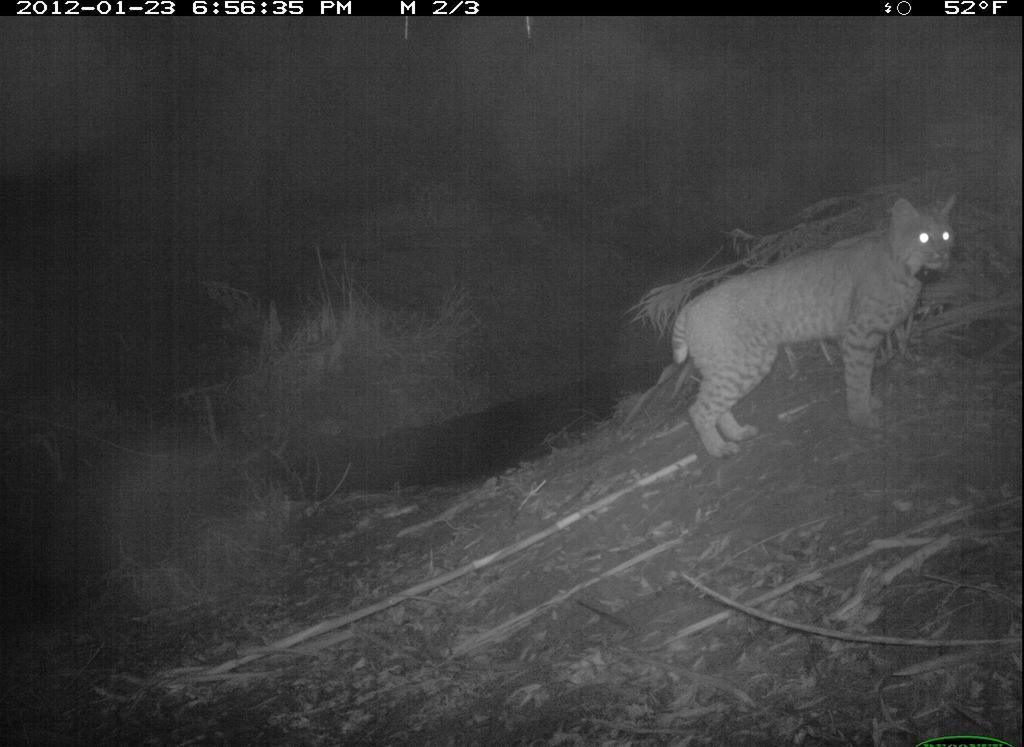bobcat: (663, 182, 972, 471)
